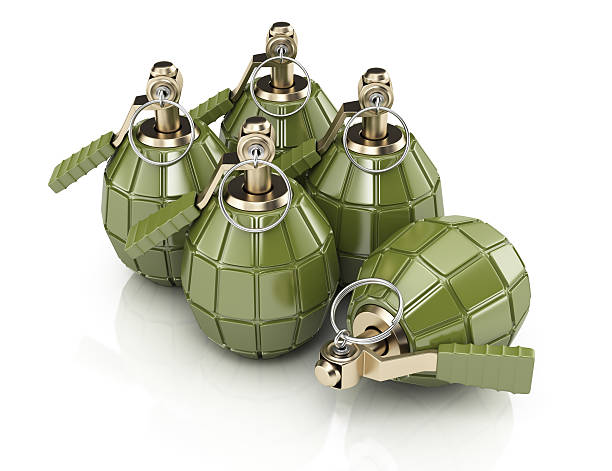e1: (309, 212, 565, 403), (59, 59, 221, 308), (192, 116, 337, 354)
